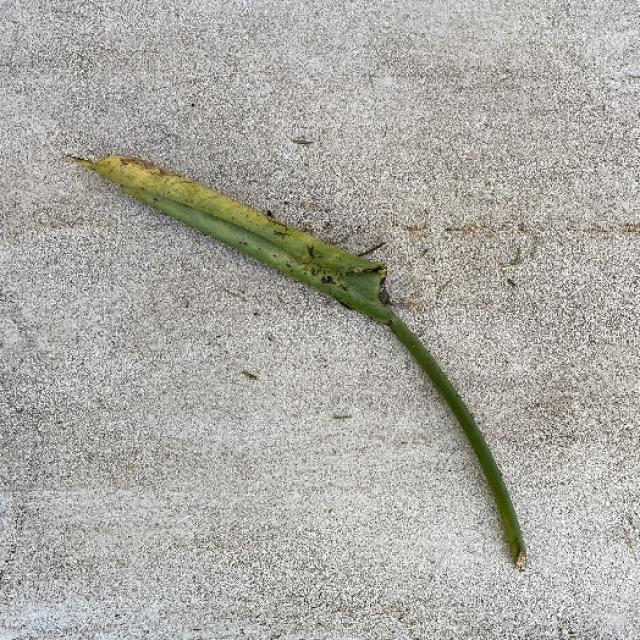organik: (80, 130, 546, 582)
